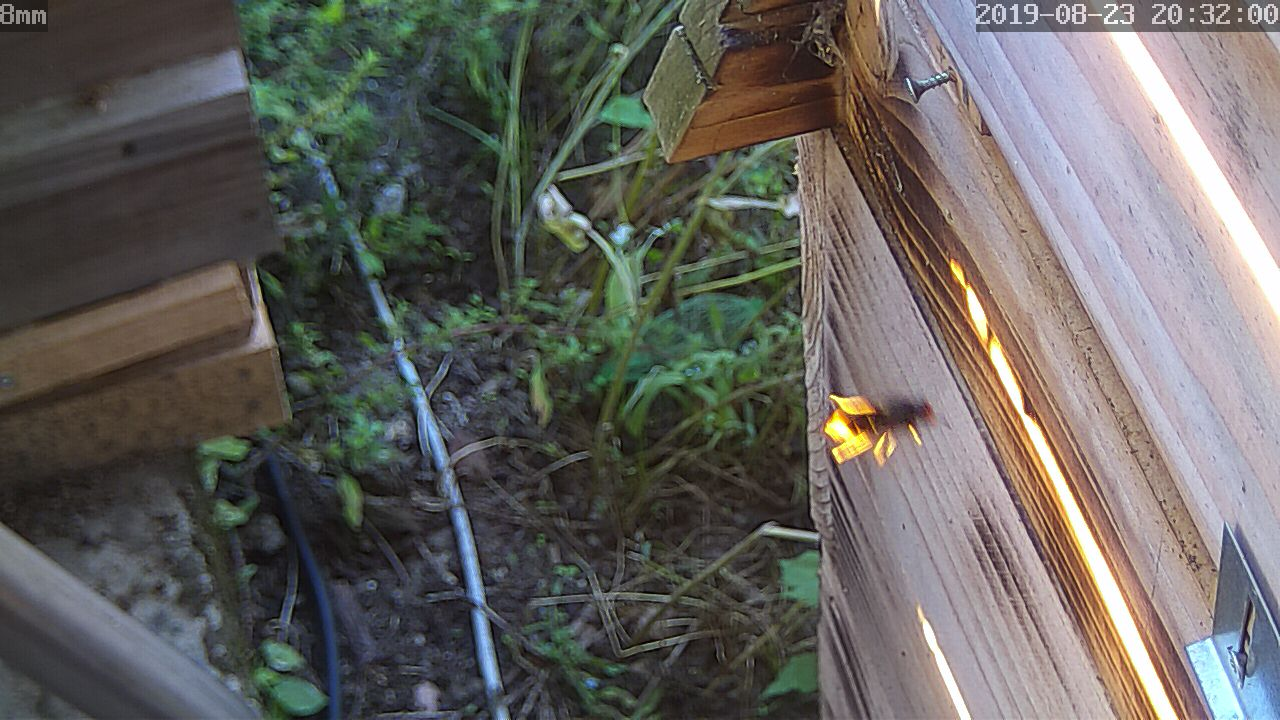hornet: (817, 384, 937, 456)
